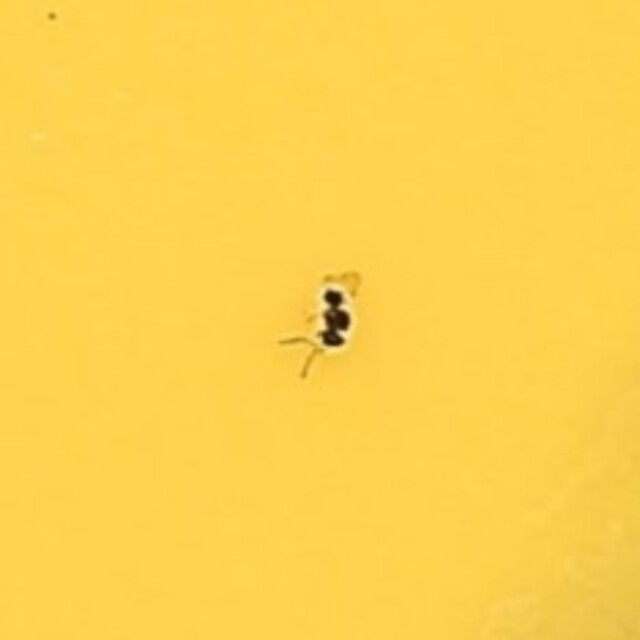Hymenoptera: (274, 260, 366, 380)
